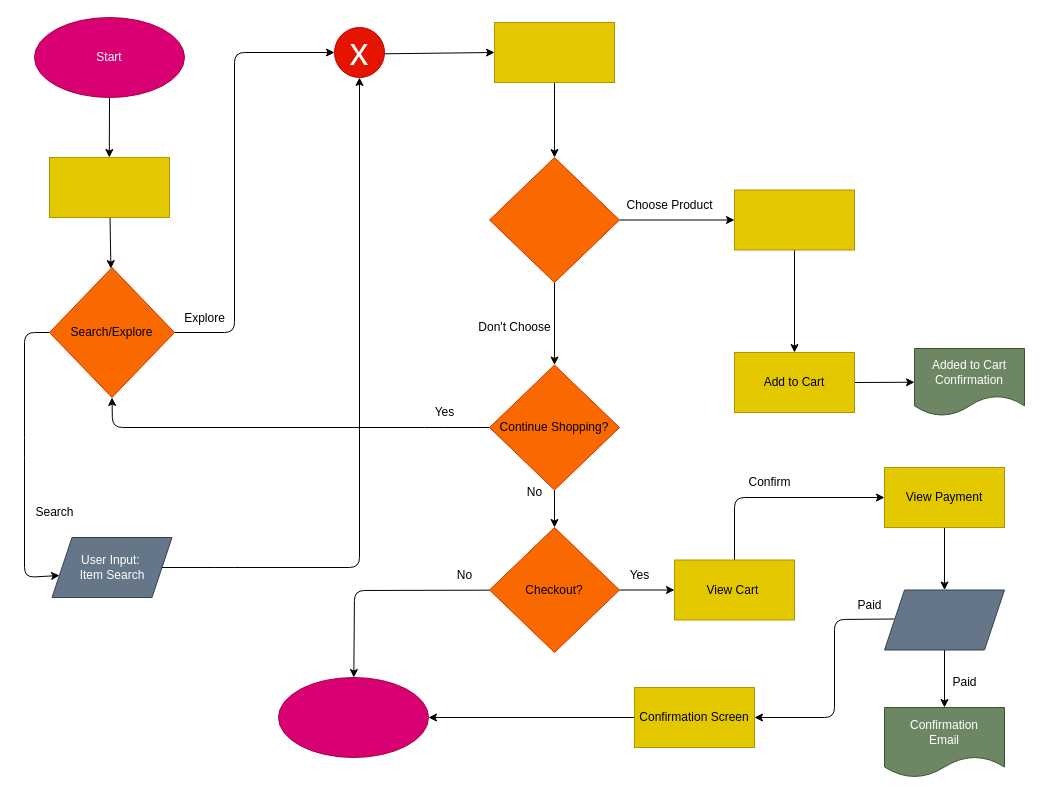
The diagram is 1042 pixels wide and 795 high, and some of its shapes have lost their labels. Here are the shapes that lost their labels. From the top down, the centre of each, then its label:
At [554,52]: "Look Over Products/ Shopping".
At [109,187]: "User Enters".
At [554,219]: "View Product".
At [794,219]: "Product Page".
At [944,619]: "User Input: Payment Info".
At [353,717]: "End: Leave Page".
